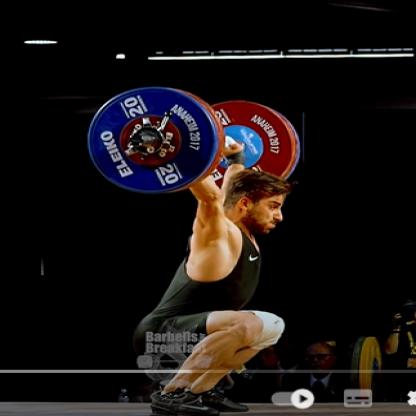Barbell: (82, 79, 238, 201)
